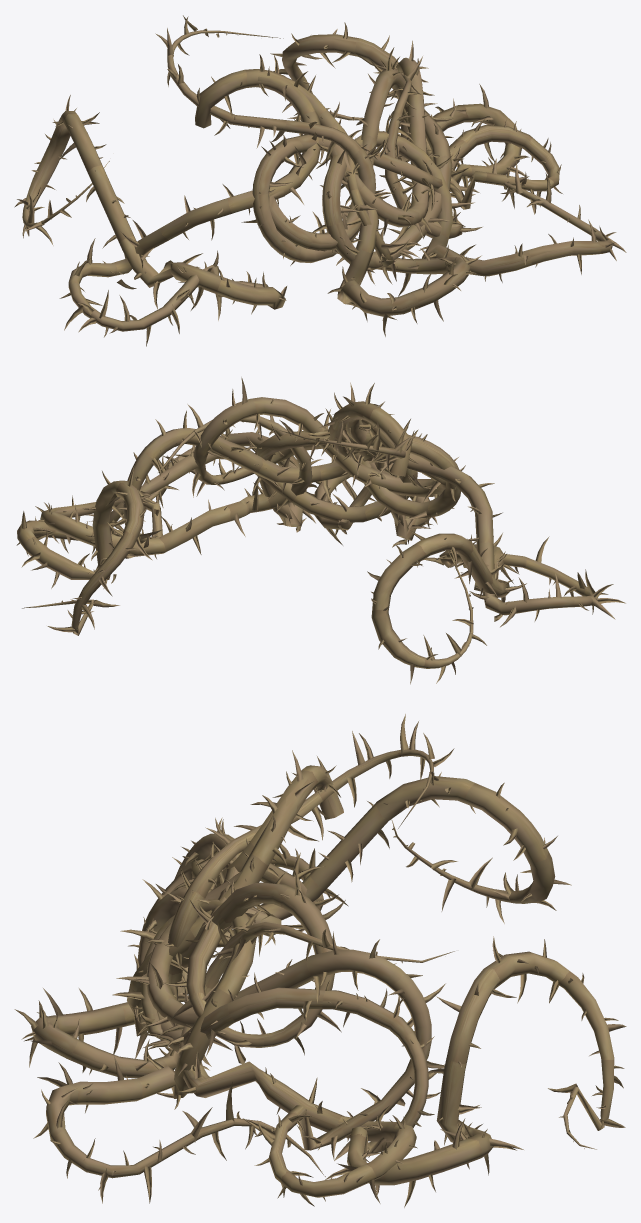
Rendered from ivy_11.fbx.
3 renders of one model, top to bottom at view 1: azimuth 30°, elevation 25°; view 2: azimuth 150°, elevation 25°; view 3: azimuth 270°, elevation 25°, orthographic. The views are drawn at different scales.
Parts seen in each view (by area): view 1: NewIvySnapshot_12; view 2: NewIvySnapshot_12; view 3: NewIvySnapshot_12.
Boxes of the visible parts, left/top/right/bottom form: NewIvySnapshot_12: left=14, top=15, right=626, bottom=346; NewIvySnapshot_12: left=16, top=377, right=625, bottom=684; NewIvySnapshot_12: left=14, top=714, right=626, bottom=1207.
Bounding box in the file's own units: 302 × 124 × 236.
